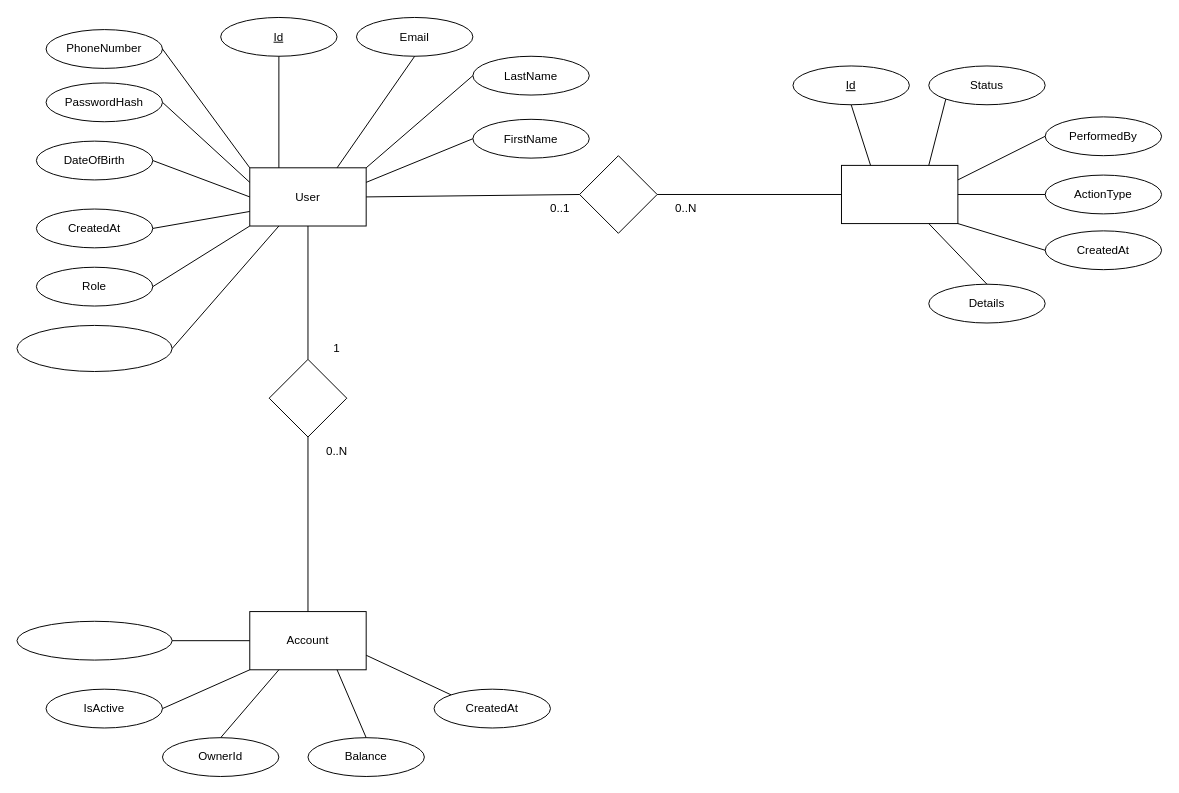
Some shapes in this 1179 by 793 pixel diagram are drawn without their labels. Each missing label, with the box of its shape:
AccountNumber: (16, 620, 172, 660)
AuditLog: (841, 164, 958, 224)
CurrentAccountNumber: (16, 324, 172, 372)
Has: (579, 155, 657, 233)
Owns: (268, 358, 347, 437)
